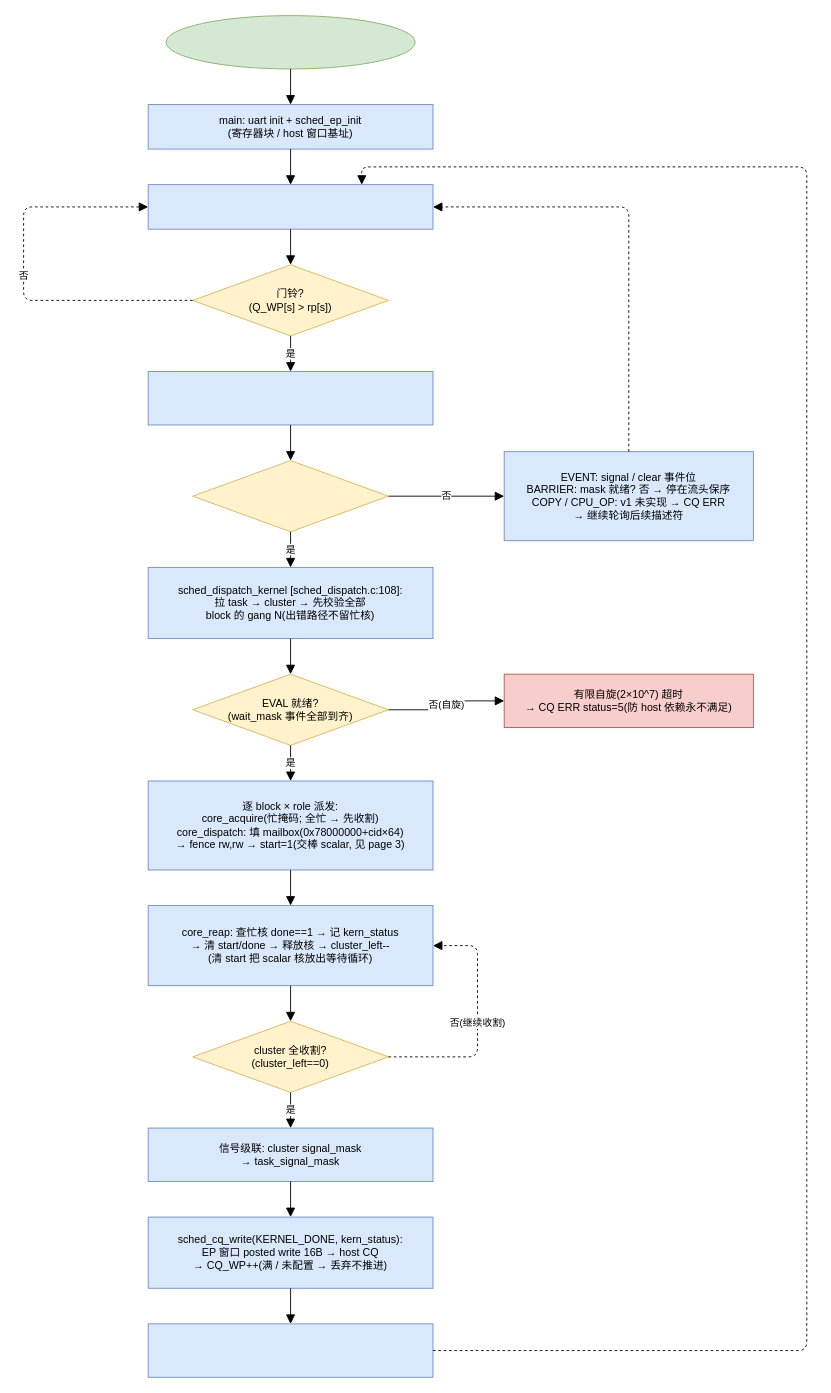
Image size: 831x1393. Some labels were removed from this diagram. The centre of each missing label's shape, as x and y in pixels:
"KERNEL 描述符?" belongs at [290,496].
"ring_fetch: EP outbound 窗口 (0x92000000) 拉 32B 描述符" belongs at [290,398].
"rp_publish: RP 影子 + Q_CTX.RP 回写 (host 判流排空全靠影子) → 回轮询" belongs at [290,1350].
"sched_ring_poll(): 16 流轮询 + host 清事件消费 [sched_ring.c:98]" belongs at [290,206].
"上电: 全核 gp/sp/mtvec(栈阵 4×16K) core0 独家清 .bss → main(0); core1..3 → 唤醒轮询" belongs at [290,42].
